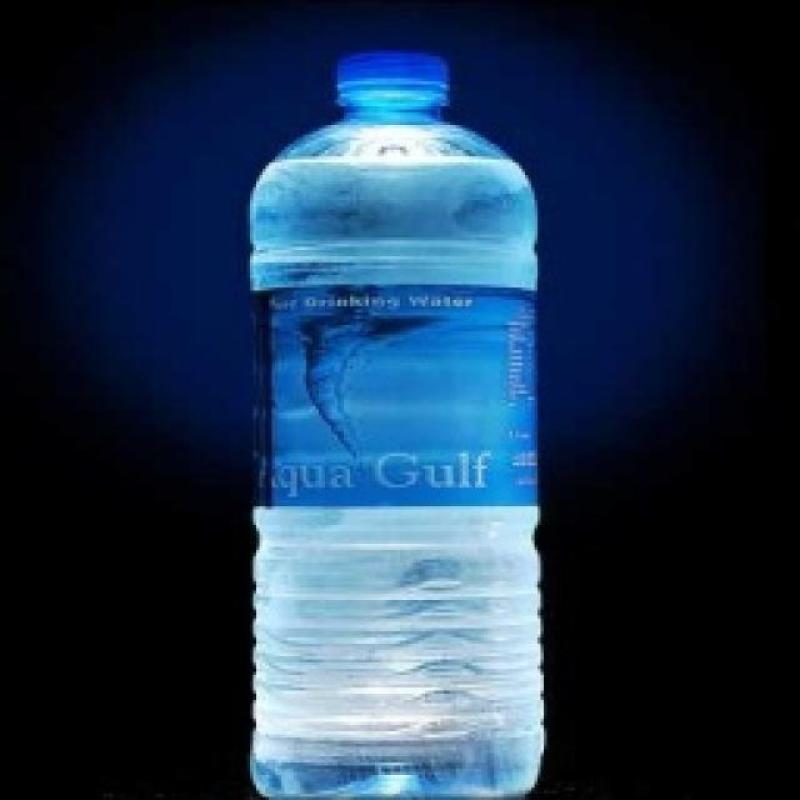botella: (243, 50, 547, 800)
